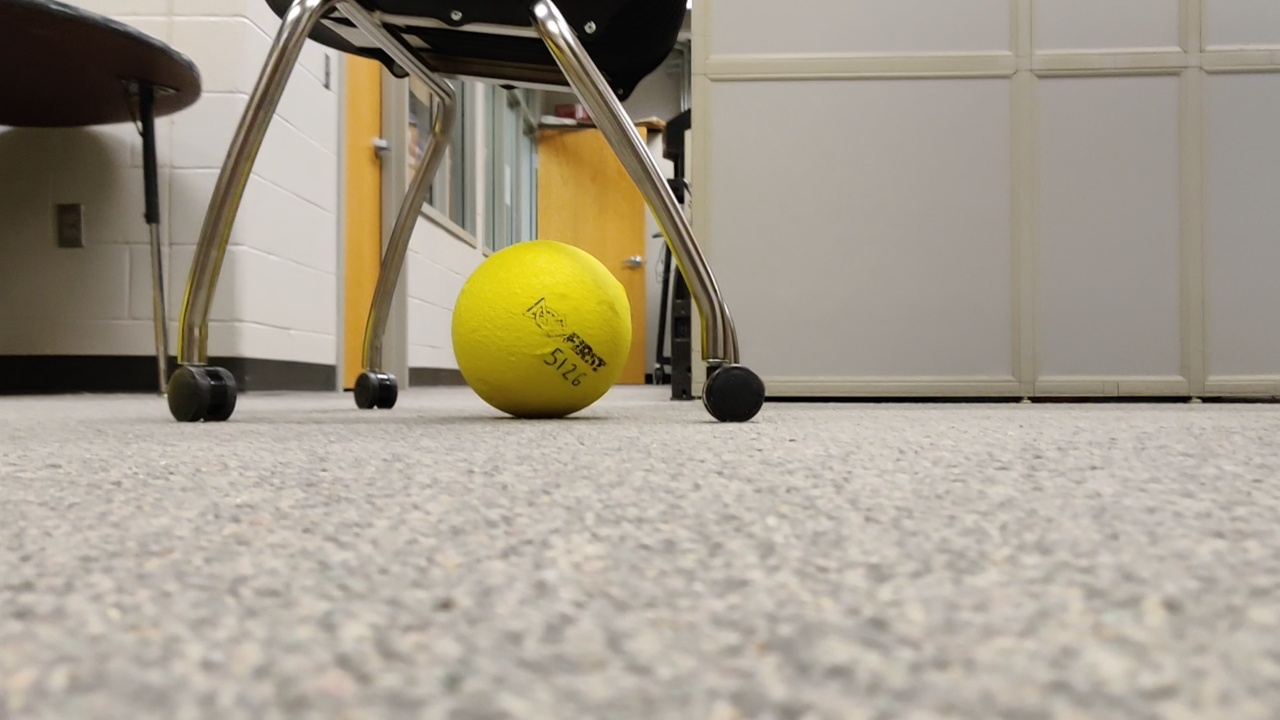Ball: (458, 237, 627, 433)
